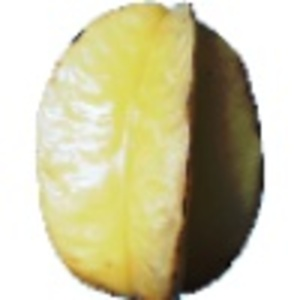carambola: (35, 1, 266, 300)
